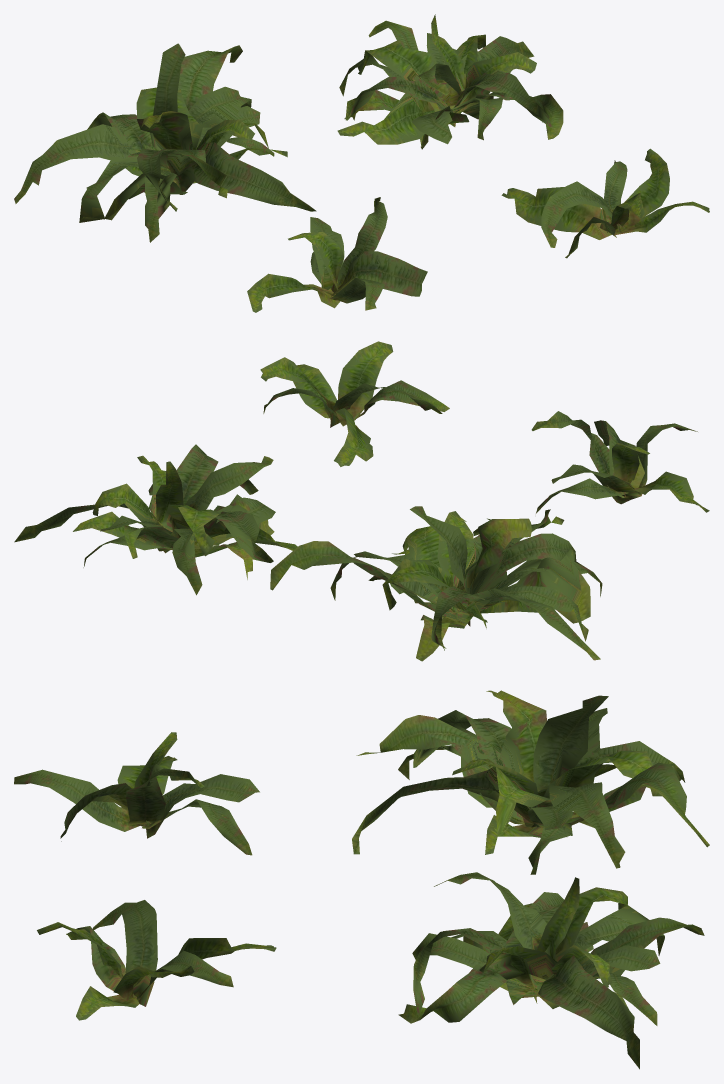
File: fern2.glb
3 views of the same model, one above another, from view 1: azimuth 30°, elevation 25°; view 2: azimuth 150°, elevation 25°; view 3: azimuth 270°, elevation 25° (orthographic). The views are drawn at different scales.
Visible parts, largest first — view 1: fern_02_b, fern_02_c, fern_02_a, fern_02_d; view 2: fern_02_b, fern_02_c, fern_02_d, fern_02_a; view 3: fern_02_b, fern_02_c, fern_02_a, fern_02_d.
Boxes of the visible parts, <box> form: fern_02_b: <box>14,43,316,242</box>; fern_02_c: <box>337,14,563,149</box>; fern_02_a: <box>247,197,427,312</box>; fern_02_d: <box>501,148,709,258</box>; fern_02_b: <box>270,506,602,661</box>; fern_02_c: <box>14,444,297,595</box>; fern_02_d: <box>260,341,449,466</box>; fern_02_a: <box>531,411,709,513</box>; fern_02_b: <box>352,690,709,874</box>; fern_02_c: <box>398,872,704,1069</box>; fern_02_a: <box>14,732,259,855</box>; fern_02_d: <box>37,900,276,1020</box>.
Size of the model in its own units: 1.97 by 0.426 by 1.72.
1 material, 1 textured.
